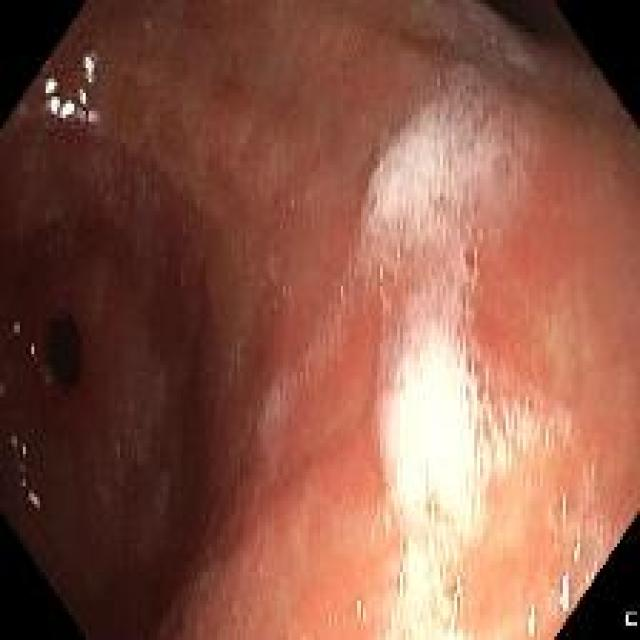blur: (4, 5, 637, 638)
bubbles: (383, 337, 490, 637), (365, 110, 521, 266), (483, 387, 572, 477)
contrast: (10, 184, 173, 591)
specularity: (45, 51, 102, 126), (7, 426, 44, 519), (449, 548, 470, 631), (554, 567, 569, 619), (571, 518, 585, 568), (555, 489, 571, 527), (352, 597, 370, 620), (24, 335, 39, 362), (7, 316, 22, 341), (527, 606, 538, 633)
